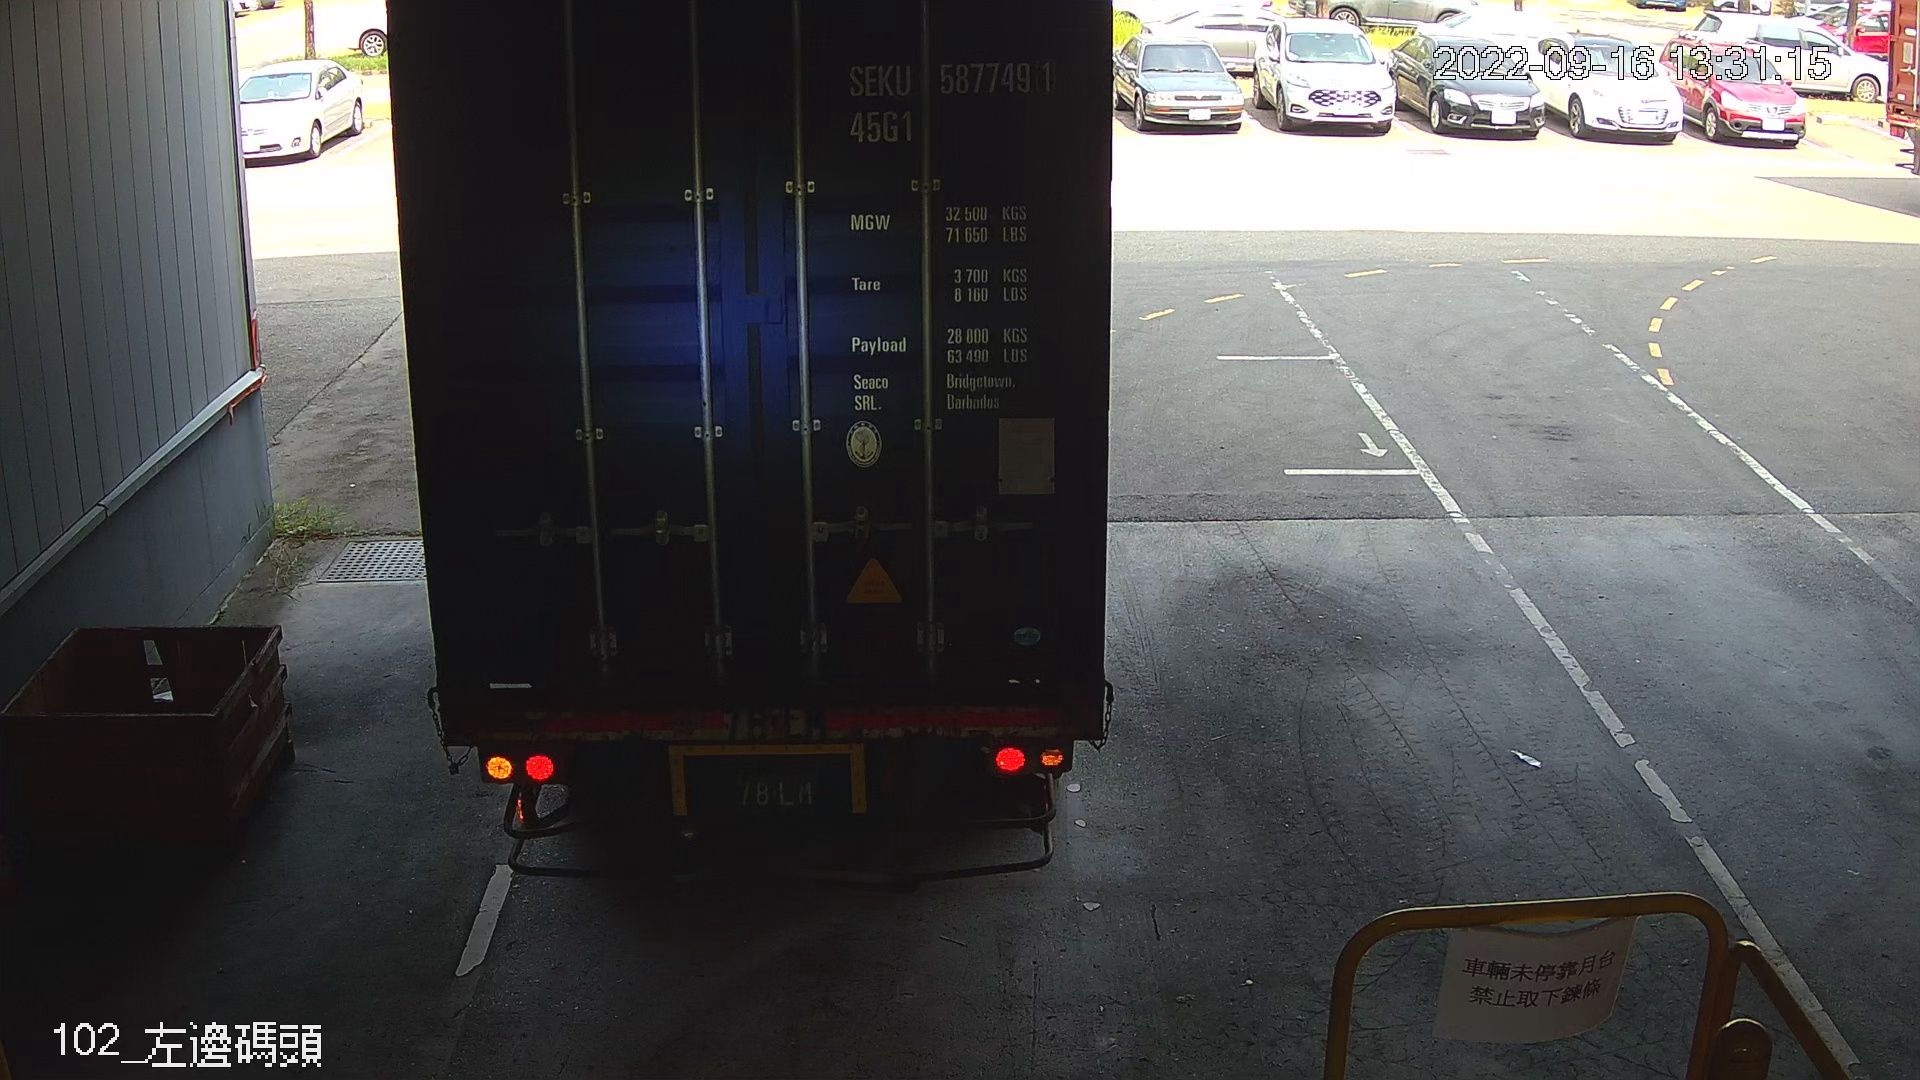container: (837, 54, 1063, 152)
